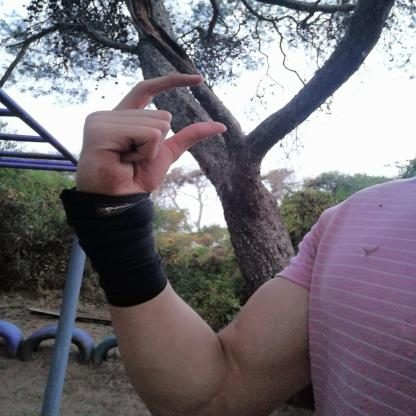DELL: (62, 64, 239, 207)
